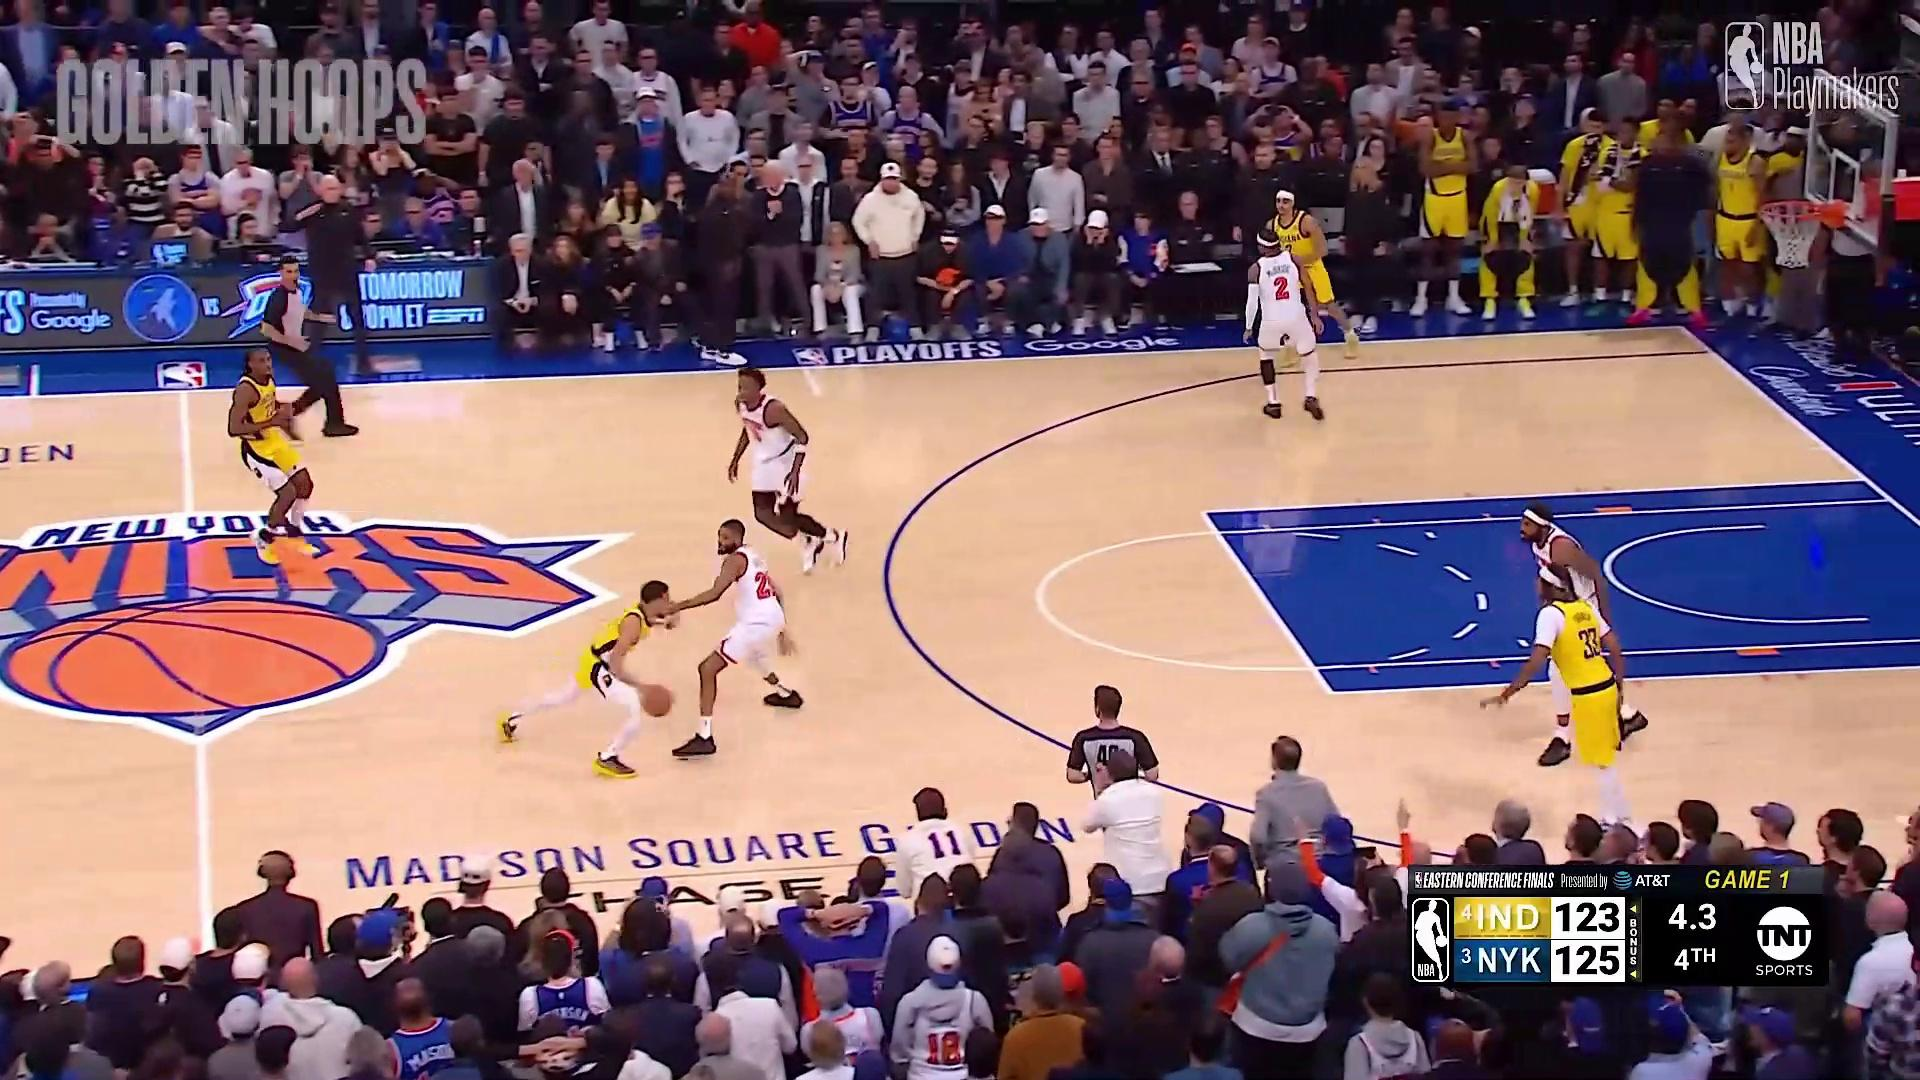ball: (642, 684, 670, 725)
hoop: (1758, 200, 1822, 272)
